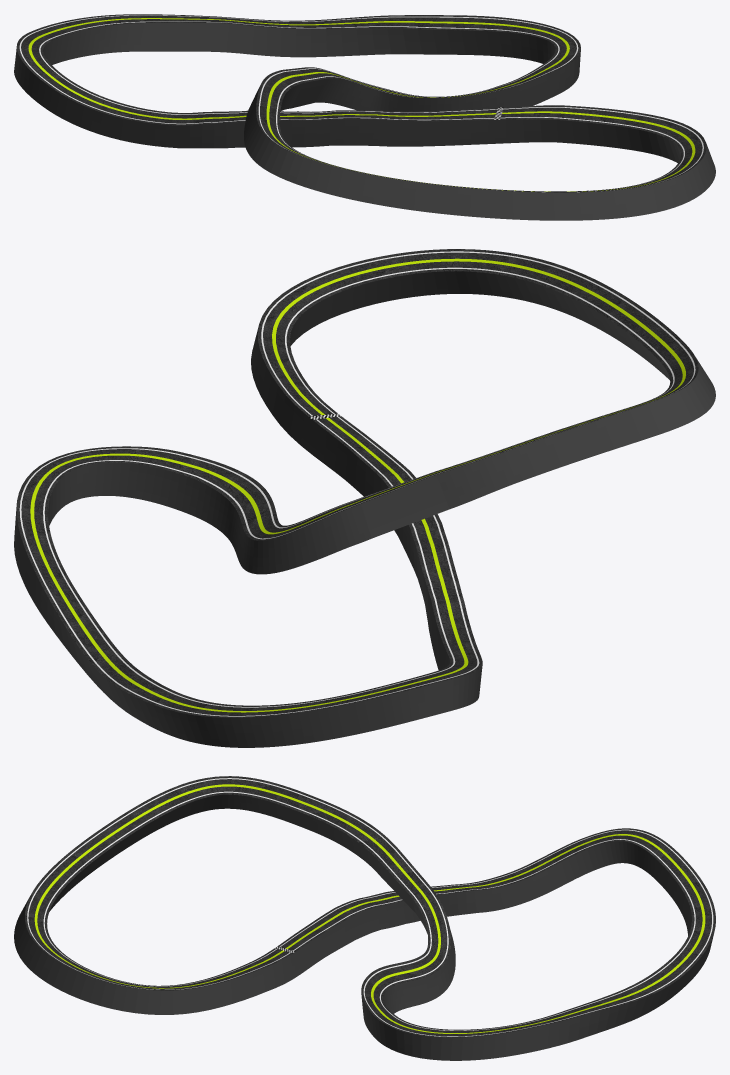
File: mobius_lava_track.fbx
The picture shows the model from 3 angles, top to bottom: view 1: azimuth 30°, elevation 25°; view 2: azimuth 150°, elevation 25°; view 3: azimuth 270°, elevation 25°; orthographic projection. The views are drawn at different scales.
Visible parts, largest first — view 1: NurbsCurve.002; view 2: NurbsCurve.002; view 3: NurbsCurve.002.
Boxes of the visible parts, <box> form: NurbsCurve.002: <box>14,14,715,220</box>; NurbsCurve.002: <box>14,249,715,747</box>; NurbsCurve.002: <box>14,776,715,1060</box>.
Size of the model in its own units: 5361 by 1608 by 7961.
